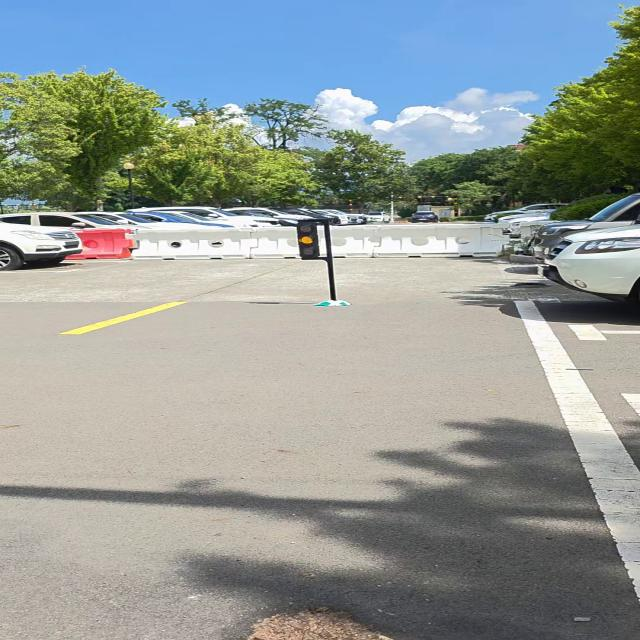yellow: (295, 222, 322, 259)
